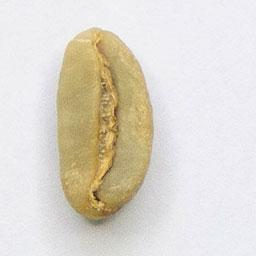longberry: (52, 23, 158, 223)
